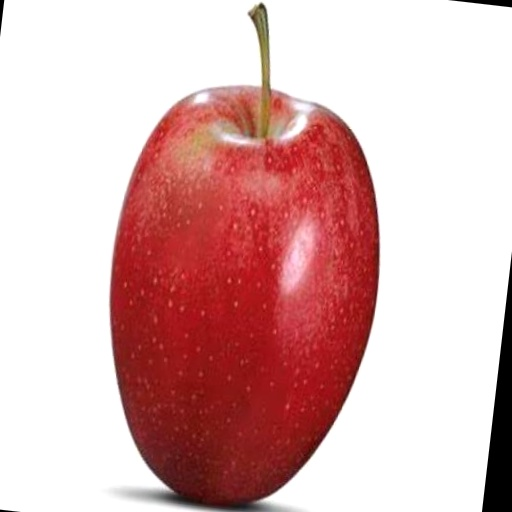fruit: (110, 5, 378, 504)
